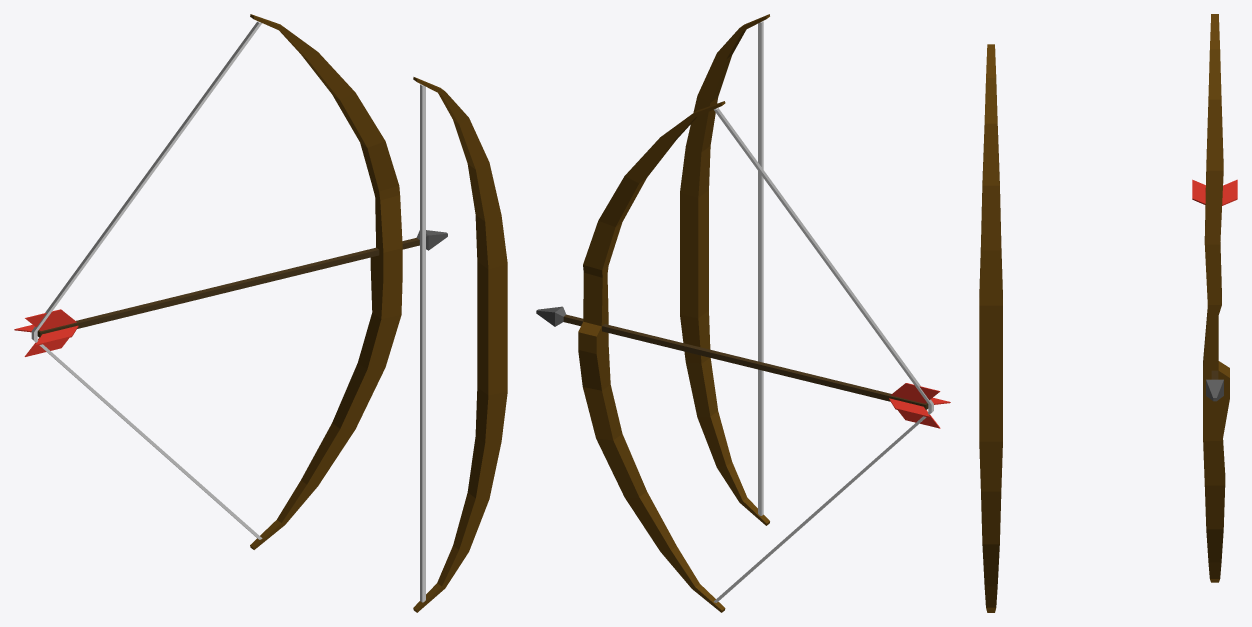
Rendered from BowAndArrow.fbx.
3 renders of one model, left to right at view 1: azimuth 30°, elevation 25°; view 2: azimuth 150°, elevation 25°; view 3: azimuth 270°, elevation 25°, orthographic. The views are drawn at different scales.
Parts seen in each view (by area): view 1: Cube.002, Cube, Cube.003, Cube.001; view 2: Cube.002, Cube, Cube.003, Cube.001; view 3: Cube, Cube.002, Cube.003.
Part boxes in pixels (box(x1,y1,x2,y2)): Cube.002: box(31, 14, 402, 549); Cube: box(413, 77, 507, 612); Cube.003: box(14, 230, 447, 356); Cube.001: box(420, 84, 425, 602); Cube.002: box(578, 101, 933, 612); Cube: box(680, 14, 769, 525); Cube.003: box(536, 306, 950, 428); Cube.001: box(758, 21, 763, 515); Cube: box(979, 44, 1002, 612); Cube.002: box(1203, 14, 1229, 582); Cube.003: box(1192, 179, 1237, 401).
Bounding box in the file's own units: 697 × 841 × 346.
